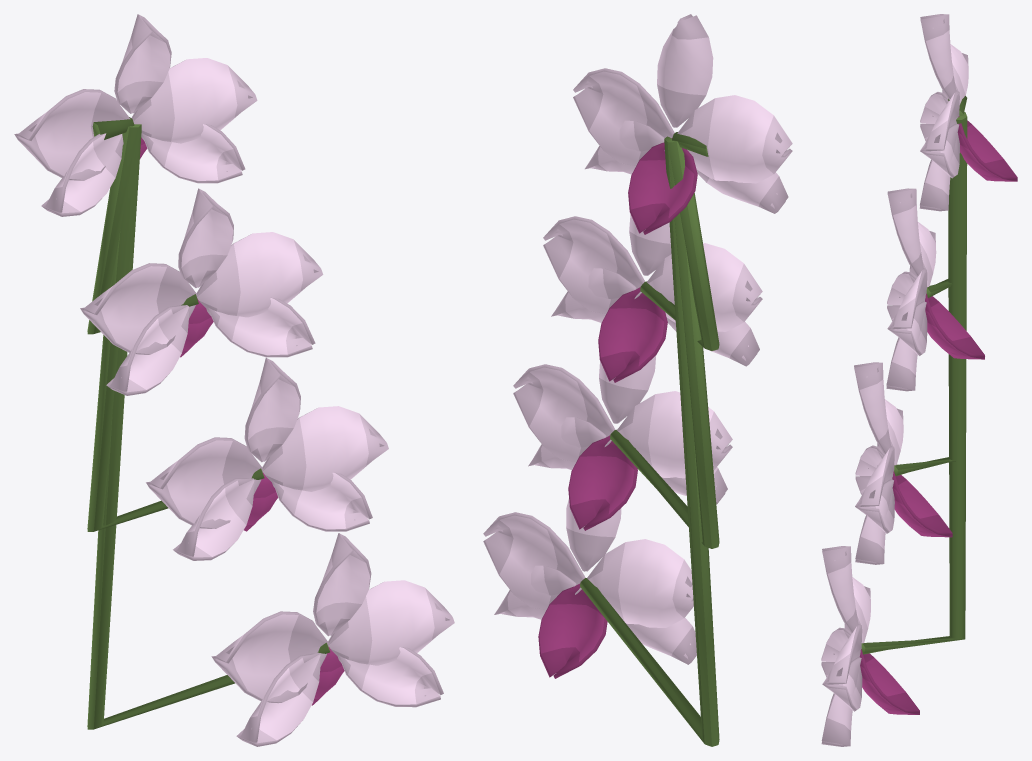
The model's file is garden-orchid-bloom-head-2.glb.
The picture shows the model from 3 angles, left to right: view 1: azimuth 30°, elevation 25°; view 2: azimuth 150°, elevation 25°; view 3: azimuth 270°, elevation 25°; orthographic projection. The views are drawn at different scales.
Parts seen in each view (by area): view 1: orchid-bloom-head-2; view 2: orchid-bloom-head-2; view 3: orchid-bloom-head-2.
Boxes of the visible parts, box(x1,y1,x2,y2) form: orchid-bloom-head-2: box(14, 14, 454, 746); orchid-bloom-head-2: box(483, 14, 792, 746); orchid-bloom-head-2: box(821, 14, 1017, 746).
Bounding box in the file's own units: 0.1526 × 0.283 × 0.0784.
